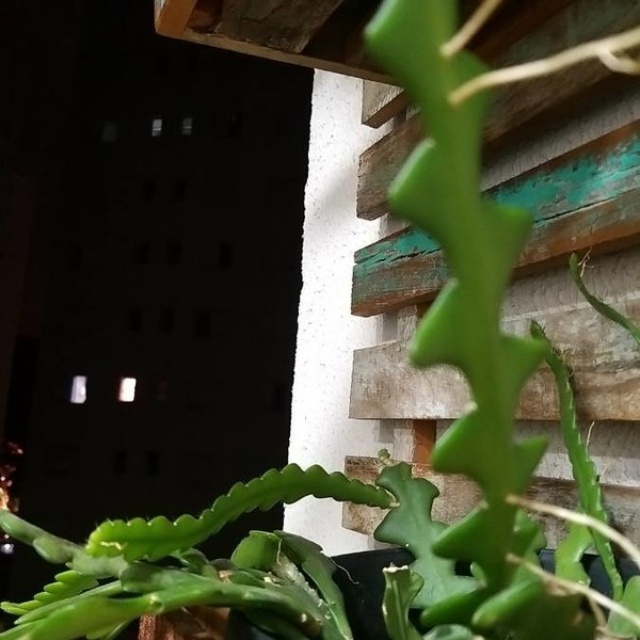obstacle: (55, 437, 590, 622)
